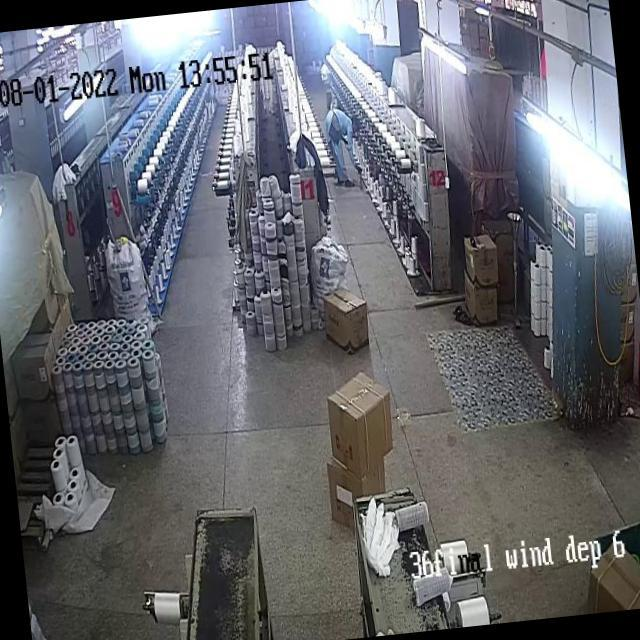person: (324, 103, 361, 186)
